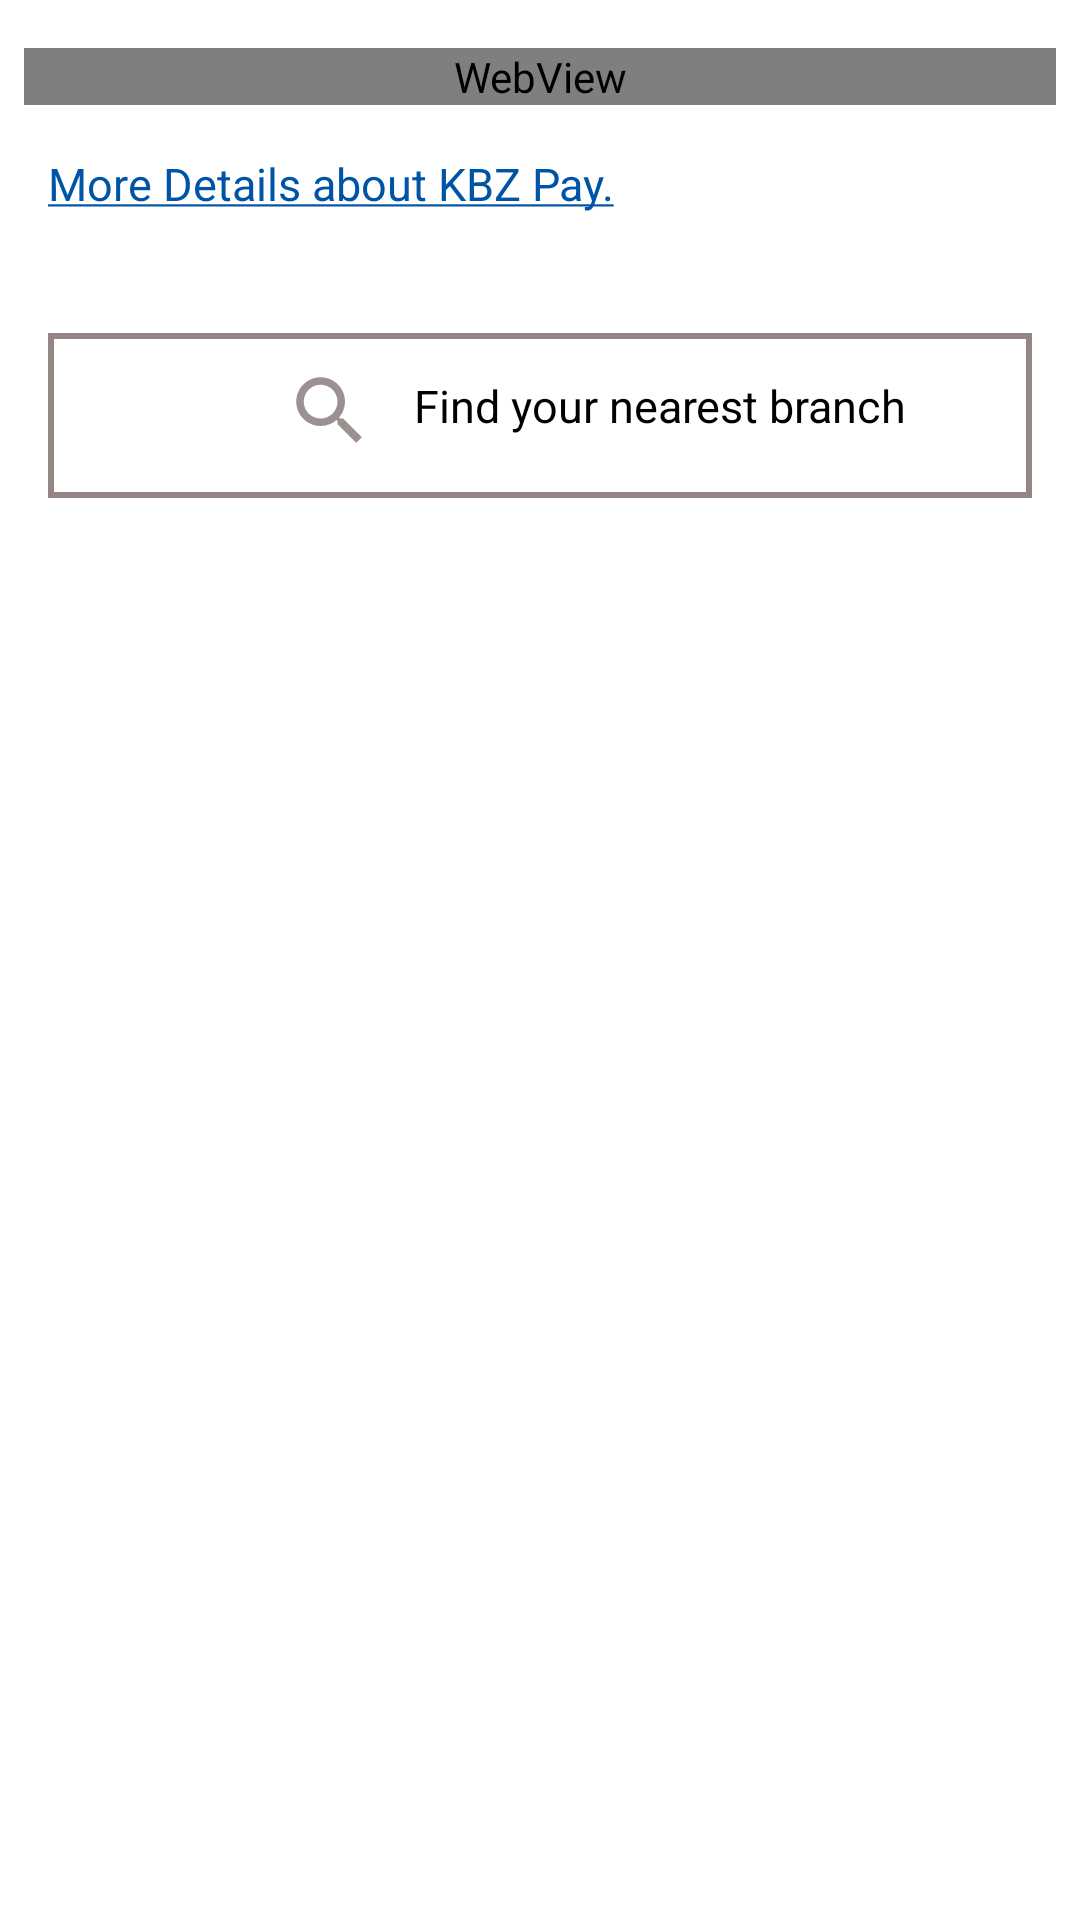

Where icons sit on this 1080x1920 app screen, as box(x1, y1, x2, y2):
search: box(296, 377, 362, 443)
